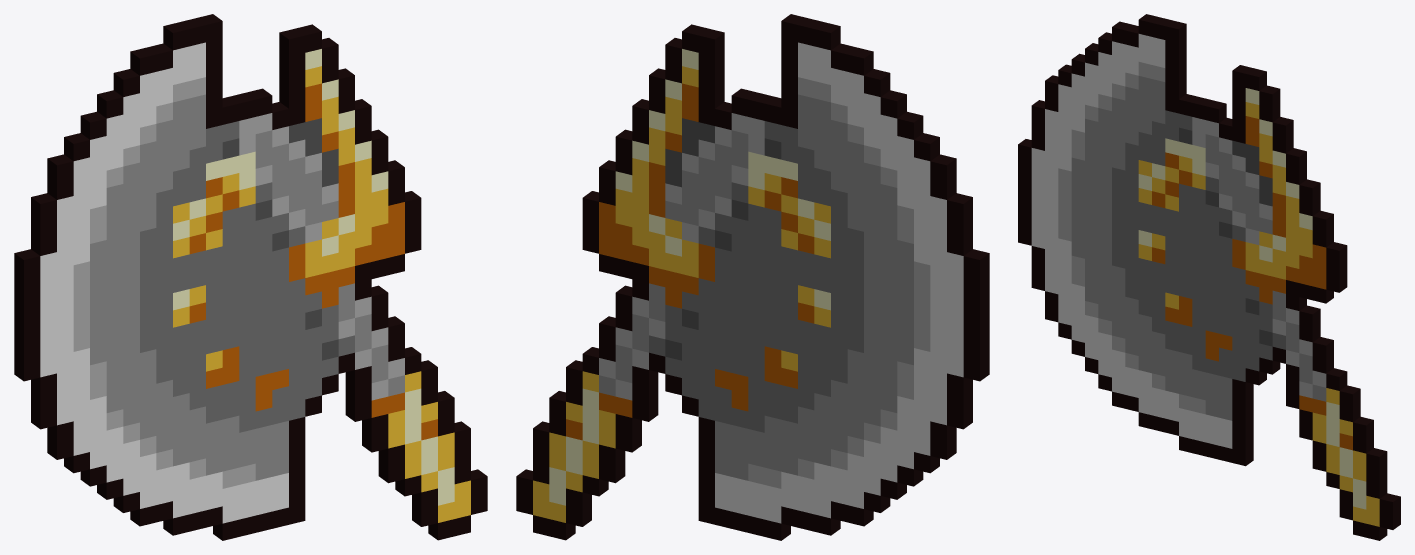
Rendered from W_Axe013.fbx.
The picture shows the model from 3 angles, left to right: view 1: azimuth 30°, elevation 25°; view 2: azimuth 150°, elevation 25°; view 3: azimuth 330°, elevation 25°; orthographic projection. The views are drawn at different scales.
Visible parts, largest first — view 1: Default; view 2: Default; view 3: Default.
Part boxes in pixels (<box>): Default: <box>14,14,487,540</box>; Default: <box>516,14,989,540</box>; Default: <box>1018,14,1400,540</box>.
Size of the model in its own units: 28 by 33 by 1.
Materials: 1 (1 with a texture image).
